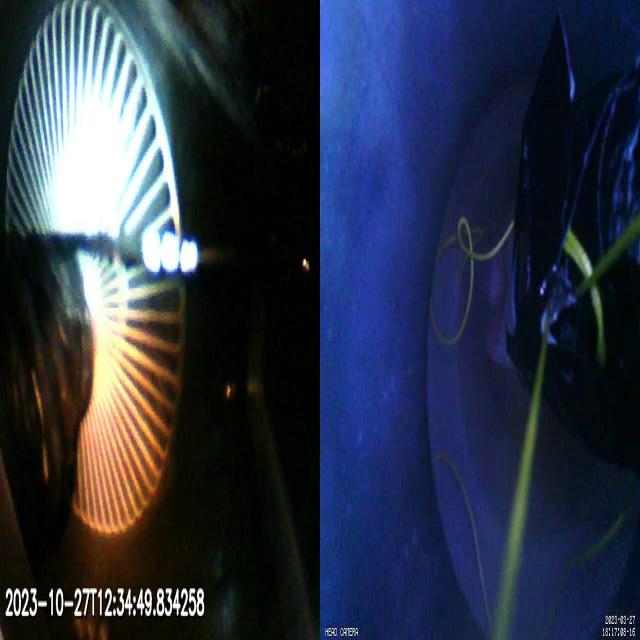white-dots: (141, 227, 199, 274)
